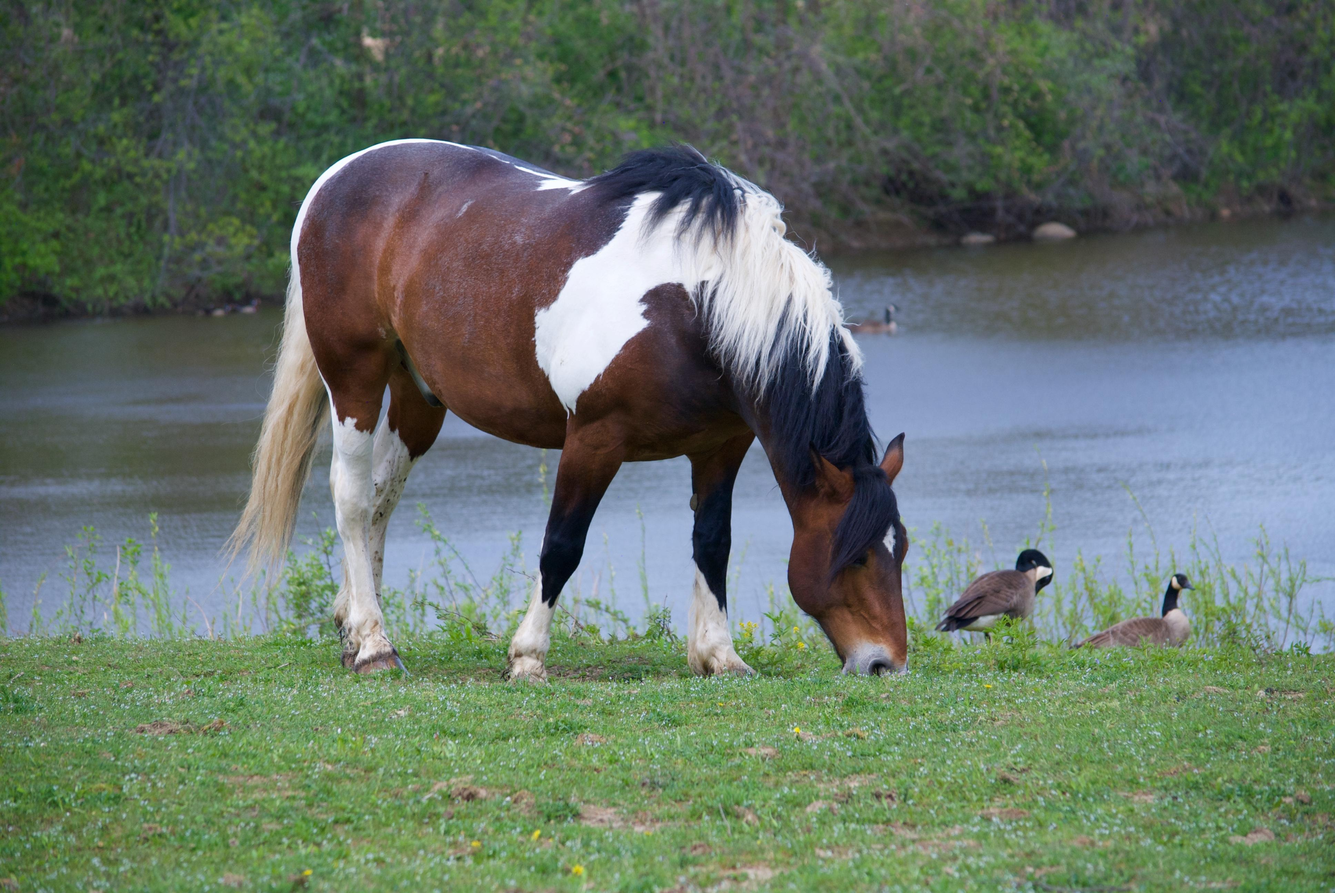horse: (217, 122, 926, 699)
